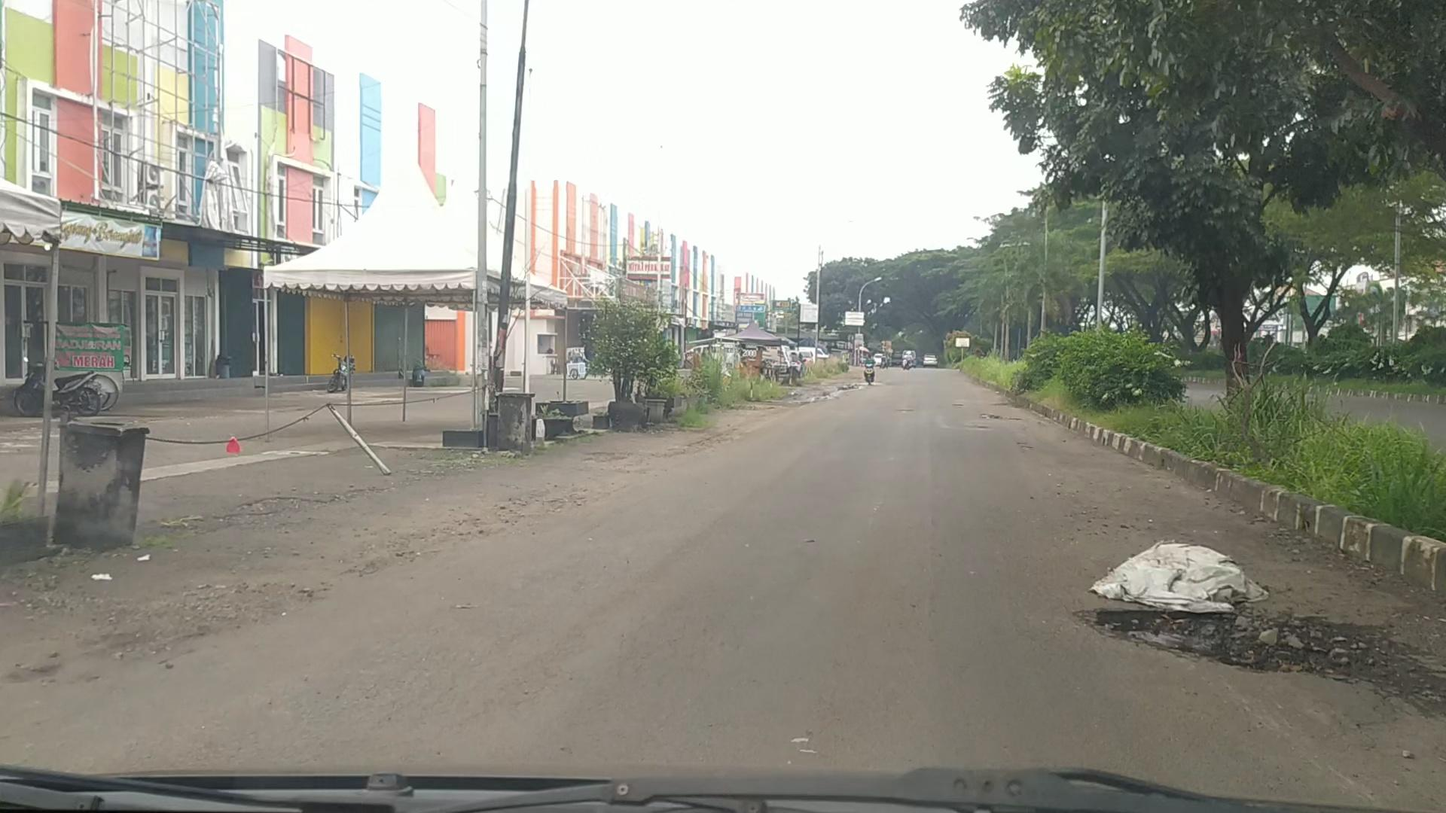pothole: (1083, 603, 1424, 708)
